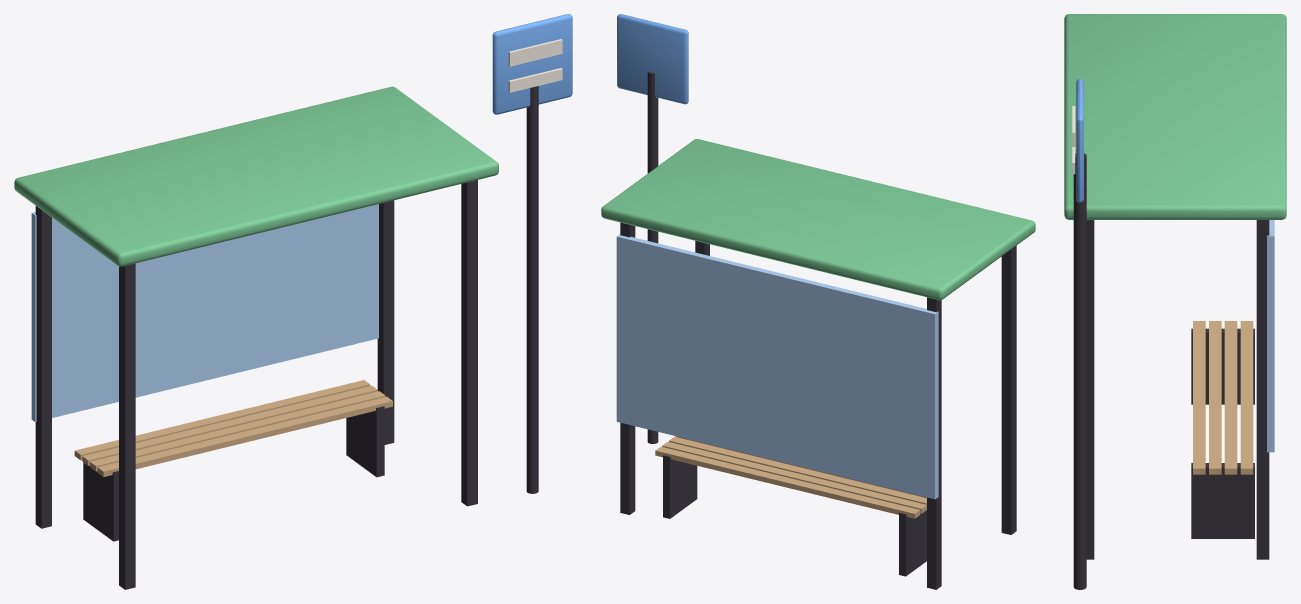
Rendered from bus_stop.glb.
3 renders of one model, left to right at view 1: azimuth 30°, elevation 25°; view 2: azimuth 150°, elevation 25°; view 3: azimuth 270°, elevation 25°, orthographic. The views are drawn at different scales.
Visible parts, largest first — view 1: bus_stop; view 2: bus_stop; view 3: bus_stop.
Part boxes in pixels (x1,y1,x2,y2): bus_stop: [14, 14, 572, 589]; bus_stop: [601, 14, 1035, 589]; bus_stop: [1064, 14, 1286, 589].
Size of the model in its own units: 3.5 by 3.4 by 1.4.
